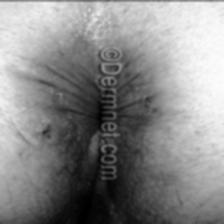Non-Cancerous Skin Condition: (33, 123, 53, 139), (140, 96, 160, 112)
